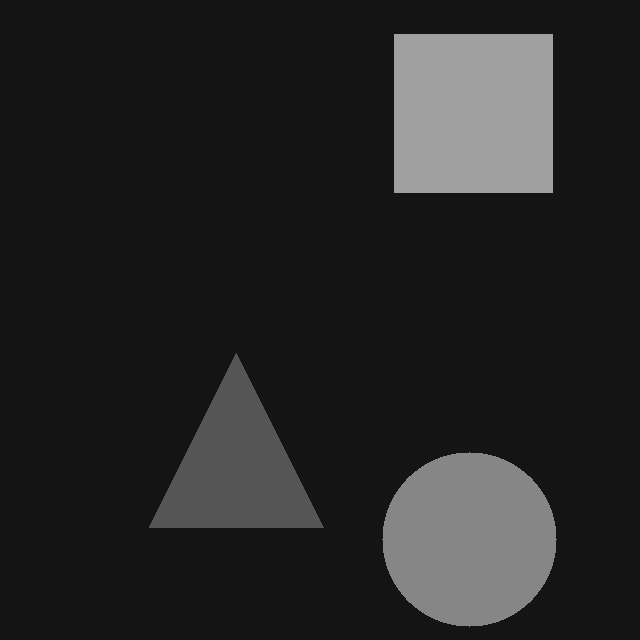circle: (382, 452, 556, 626)
square: (394, 34, 552, 192)
triangle: (149, 353, 323, 527)
